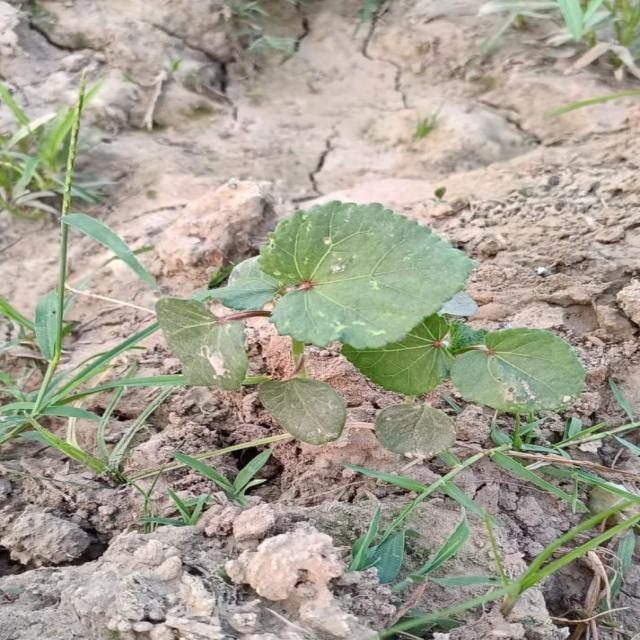plant: (156, 201, 585, 443), (378, 404, 451, 454)
